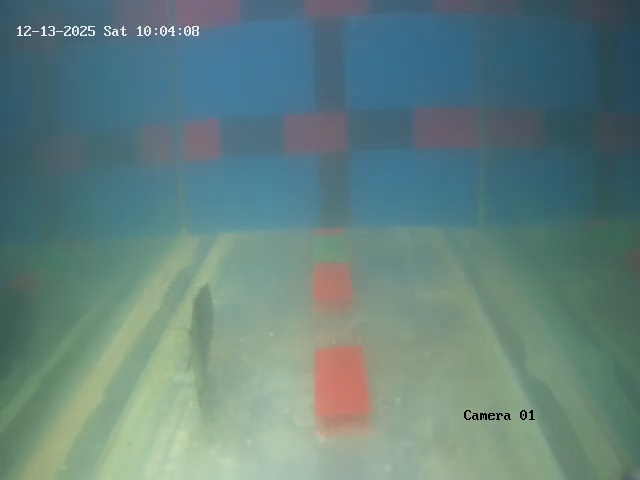fish: (176, 278, 223, 384)
